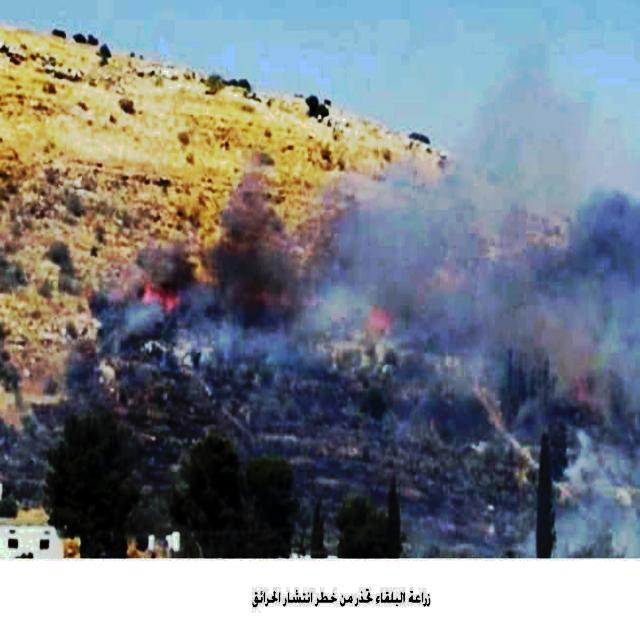asap: (448, 51, 636, 531), (141, 202, 311, 459), (325, 161, 439, 509)
